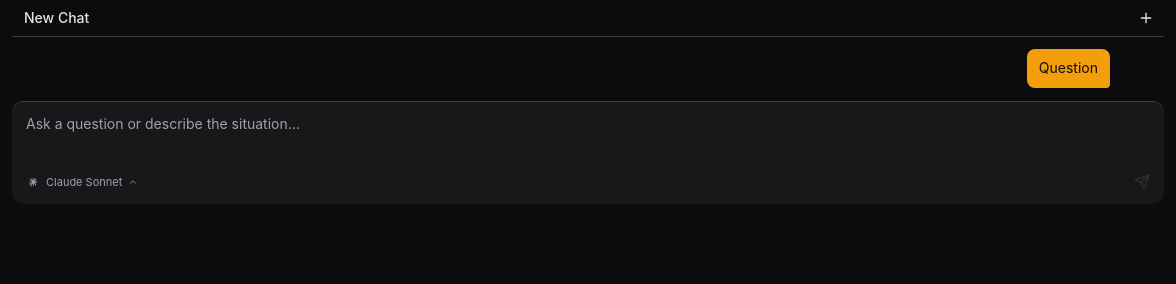
Scenario: AIChatPanel scroll behavior › renders a quiet session-expired divider from the chat event stream
Type "Continue" into the text box. click: (588, 132)
box: x1=12 y1=102 x2=1164 y2=162
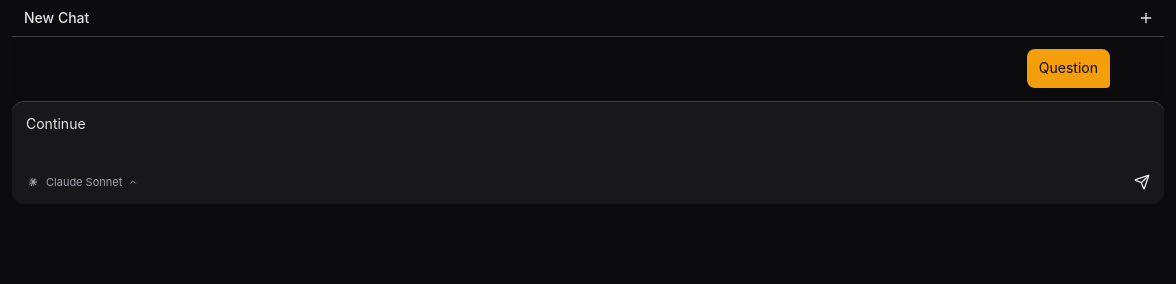
Click the button titled "Send message". click: (1142, 182)
box: x1=1128 y1=168 x2=1156 y2=196
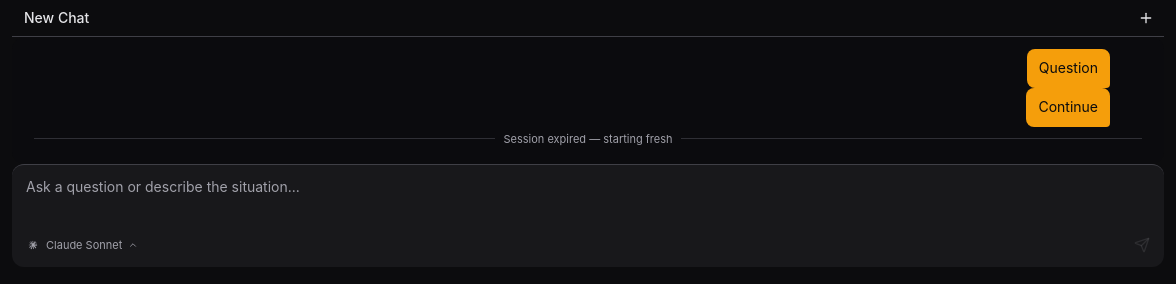
Check: the text "Session expired — starting fresh" is shown, box x1=504 y1=130 x2=673 y2=147
